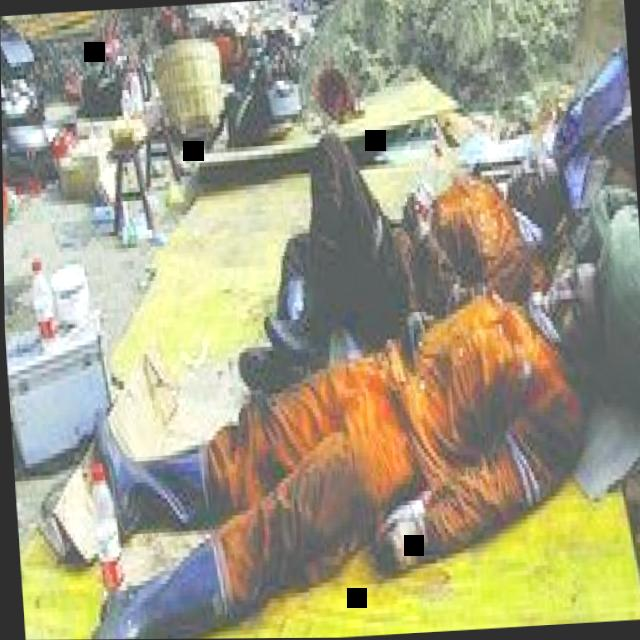Fall-Detected: (234, 78, 580, 353)
